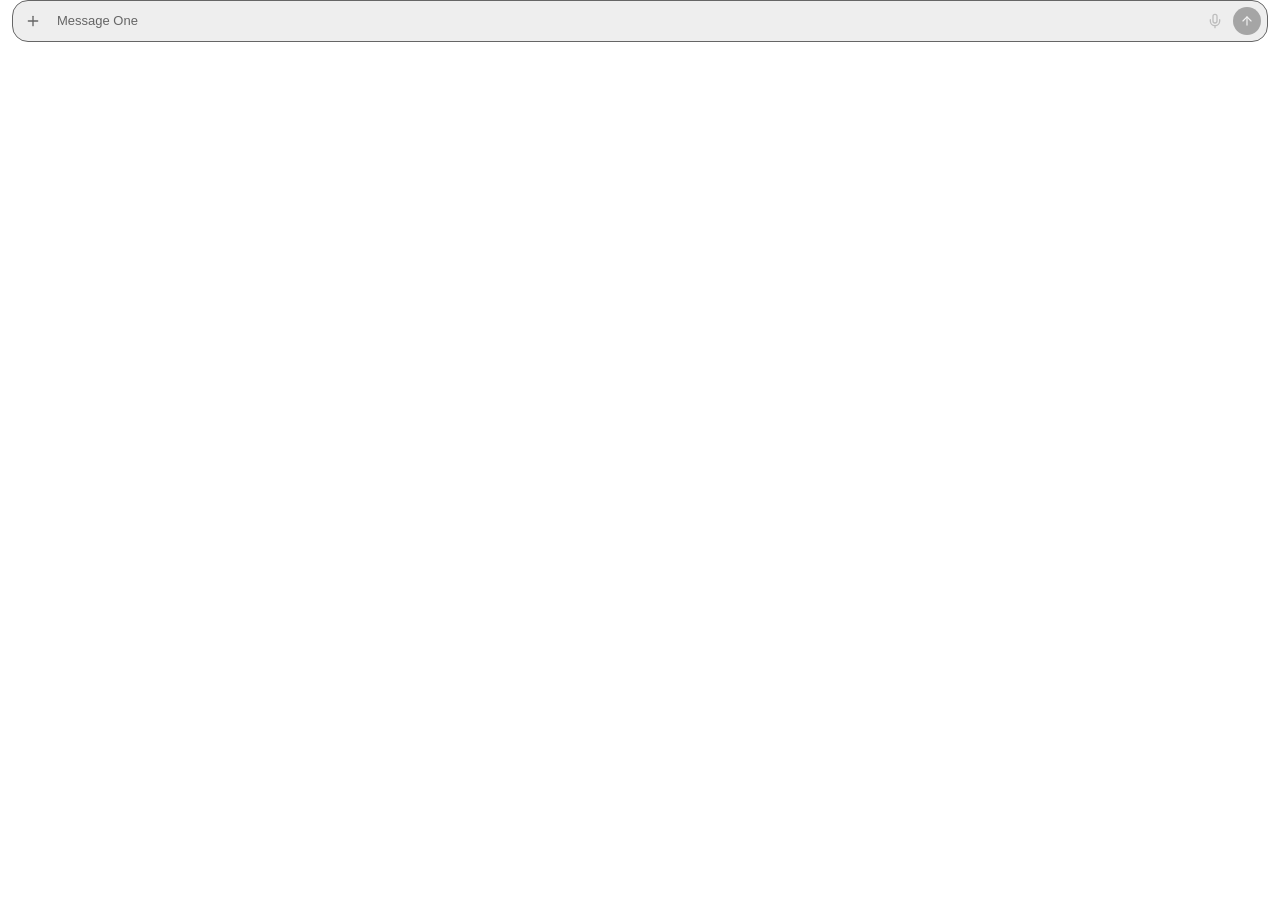
Test: ChatComposer › starts a new topic from the + menu only after confirmation
Click the button named "Attach, schedule or new topic". click: (33, 21)
box: [19,7,47,35]
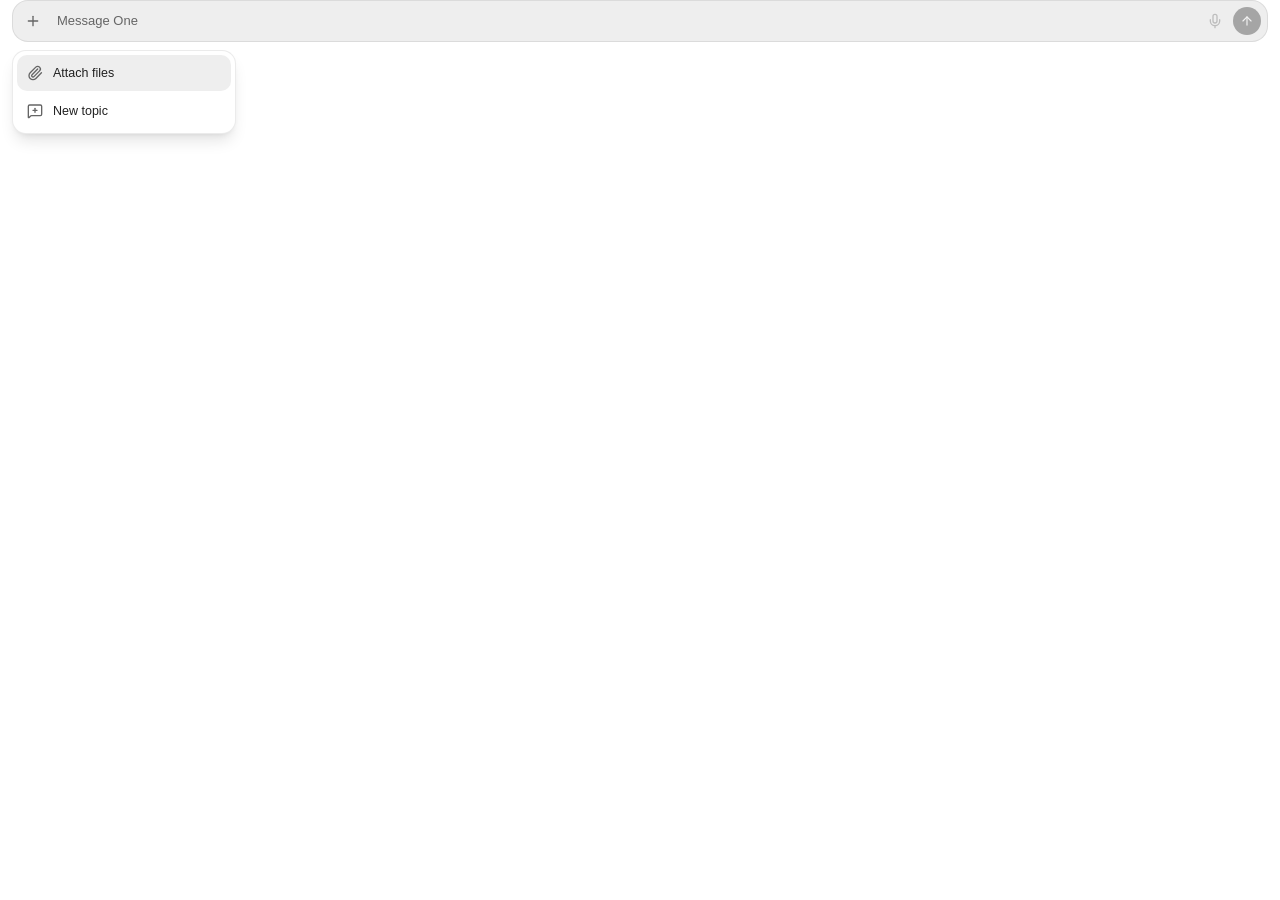
Click the button "New topic". click: (124, 111)
box: [17,93,231,129]
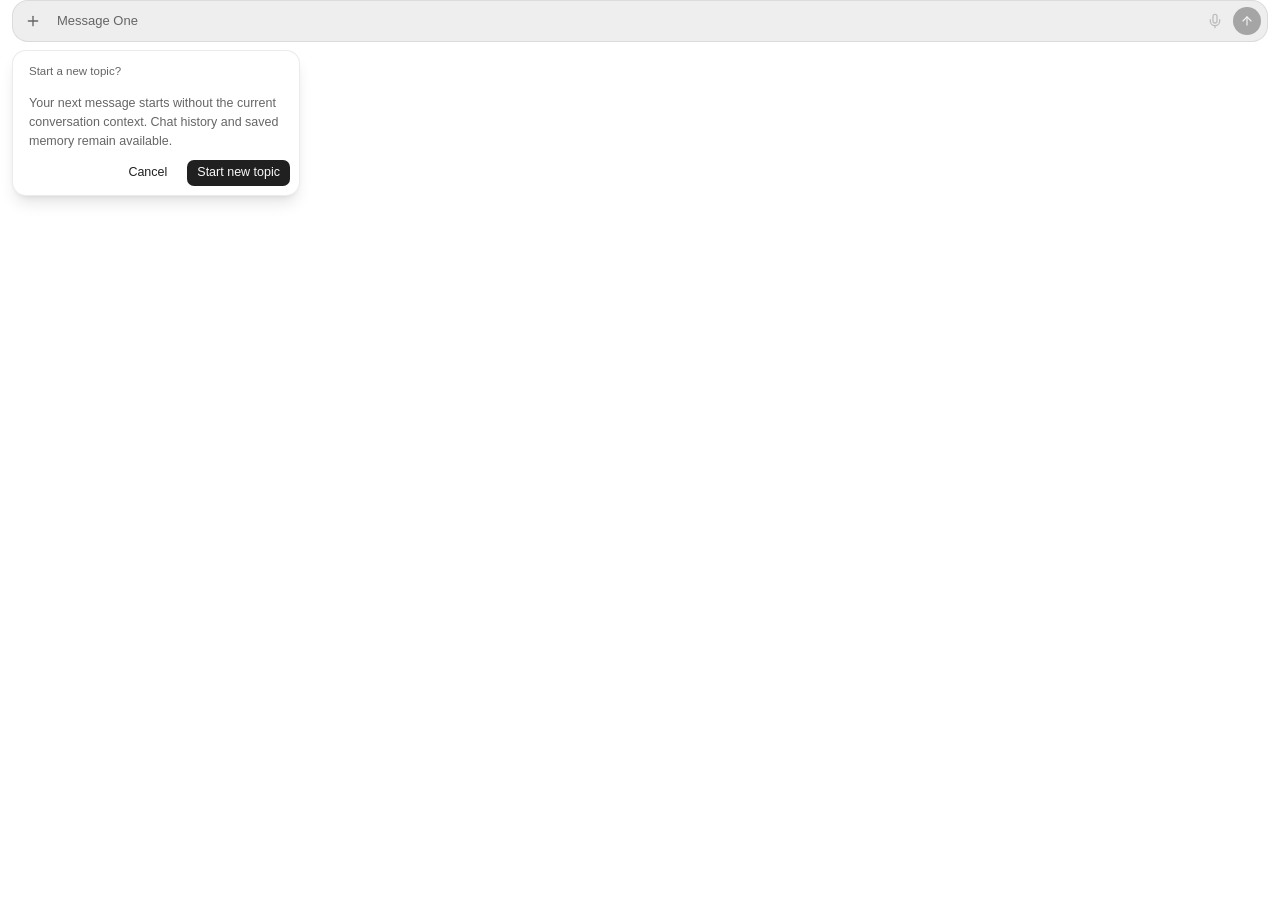
Click the button "Cancel". click: (148, 172)
box: [117,158,178,186]
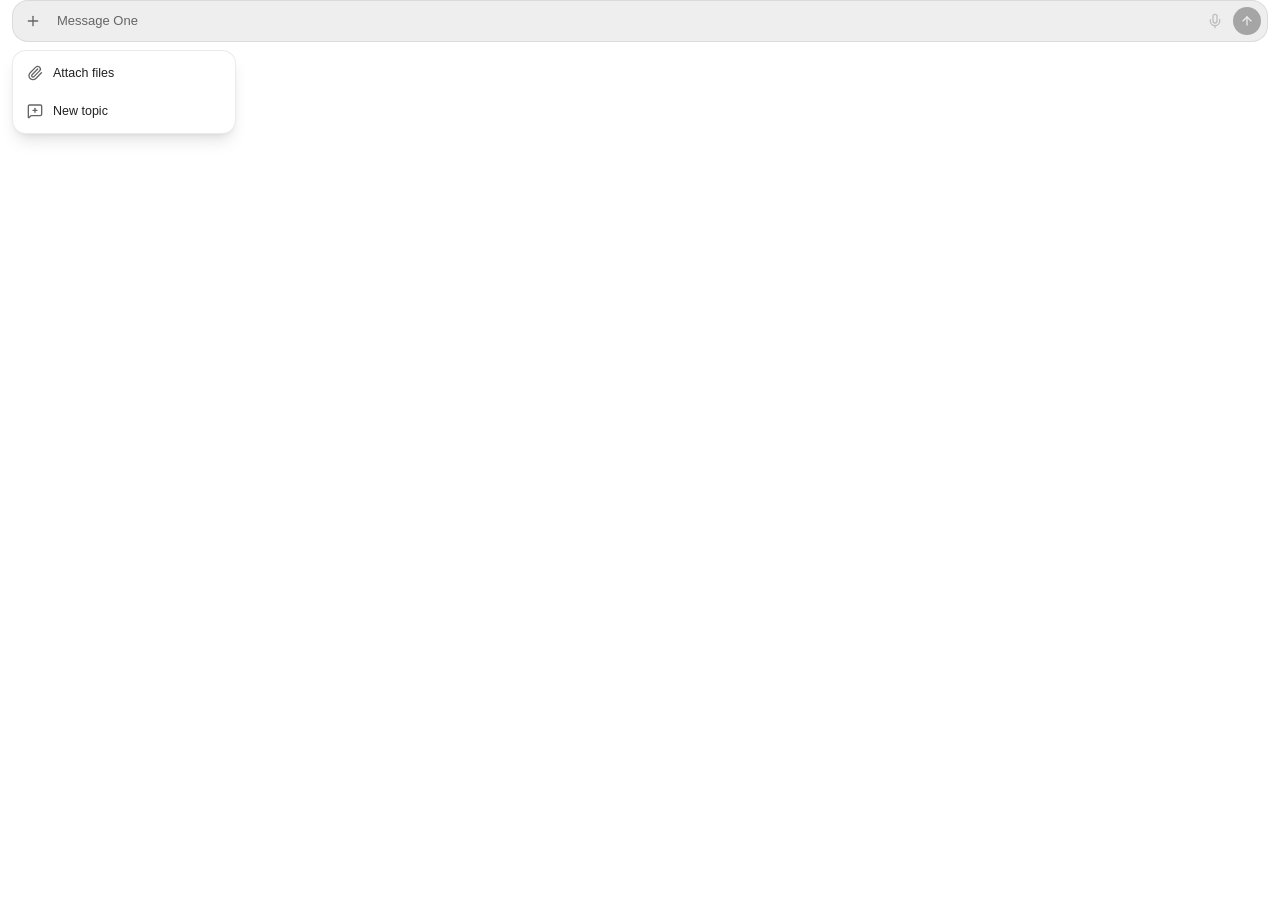
Click the button "New topic". click: (124, 111)
box: [17,93,231,129]
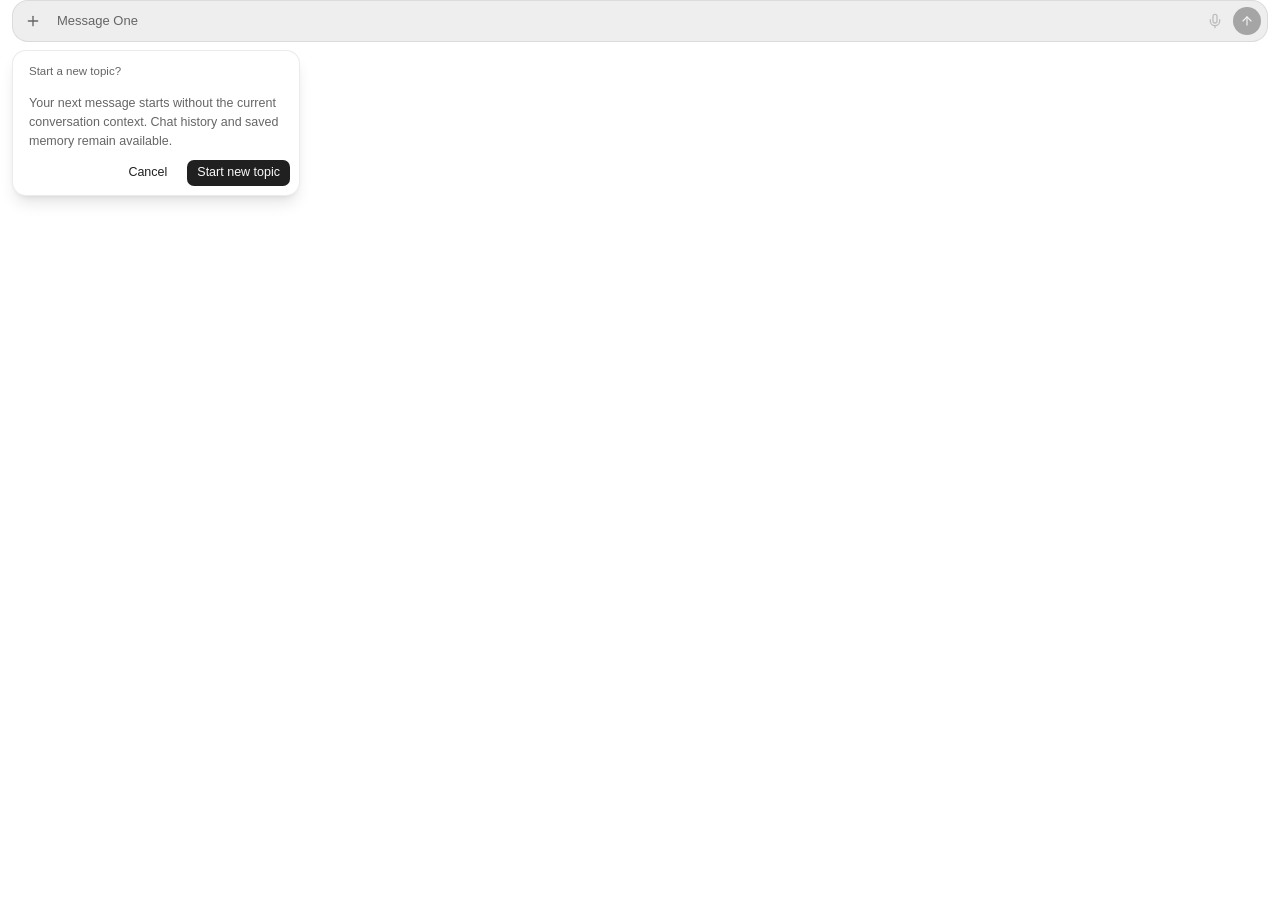
Click the button "Start new topic". click: (239, 172)
box: [186,158,291,186]
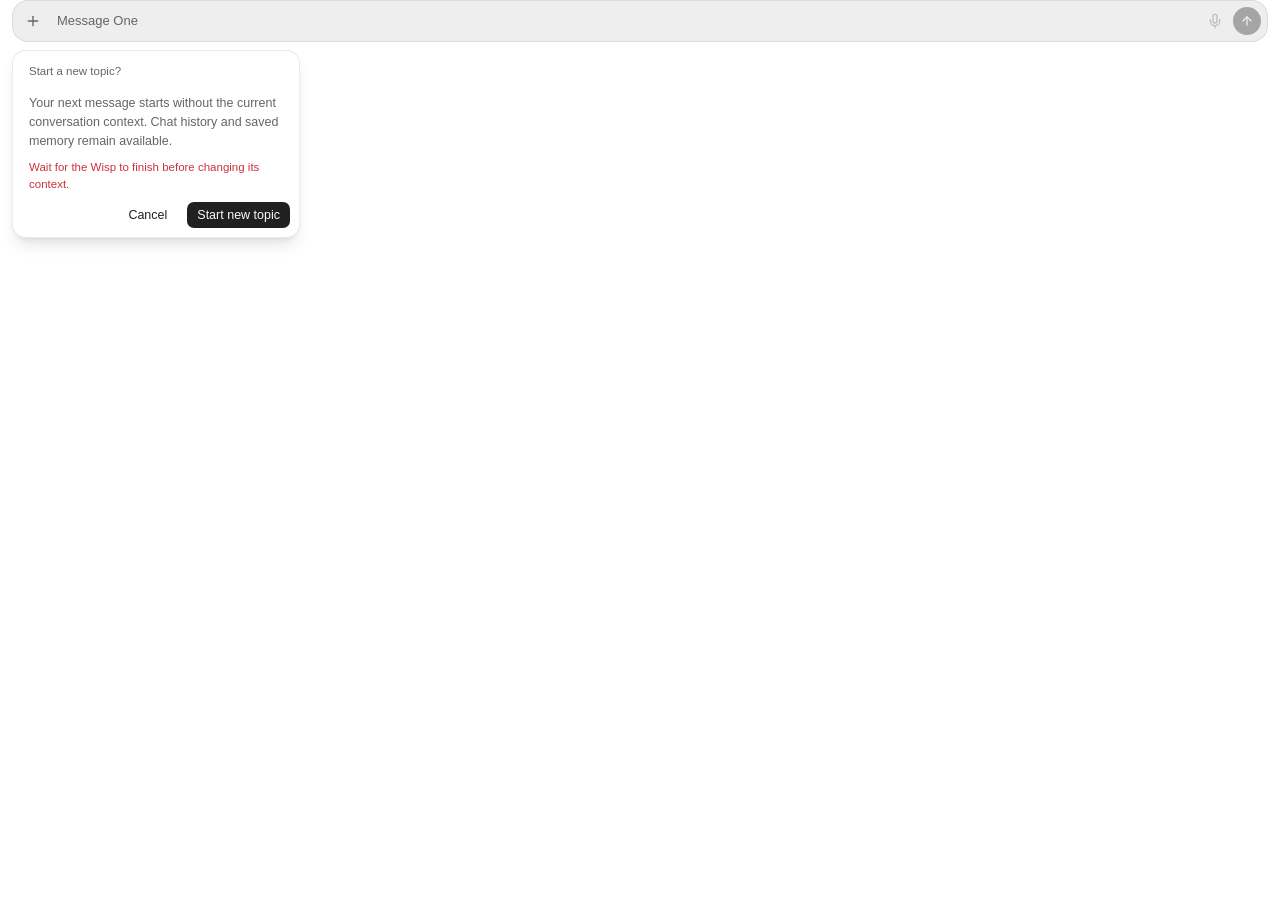
Check: the message shows "finish", box [29,160,259,190]
Click the button "Start new topic". click: (239, 215)
box: [186,201,291,229]
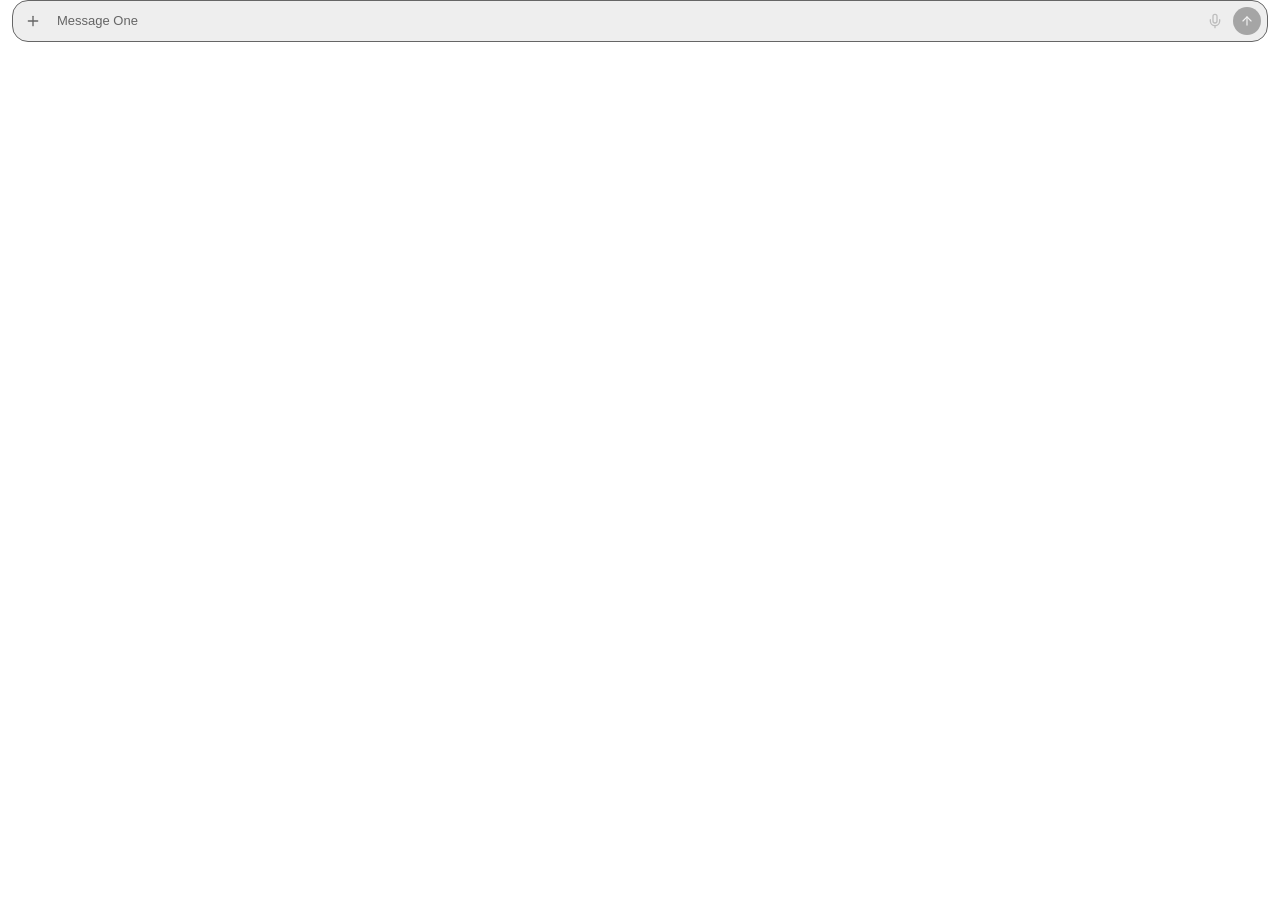
Check: the button "Start new topic" is gone
